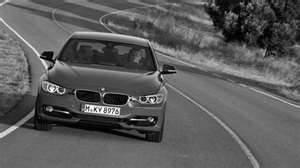car: (32, 26, 183, 147)
